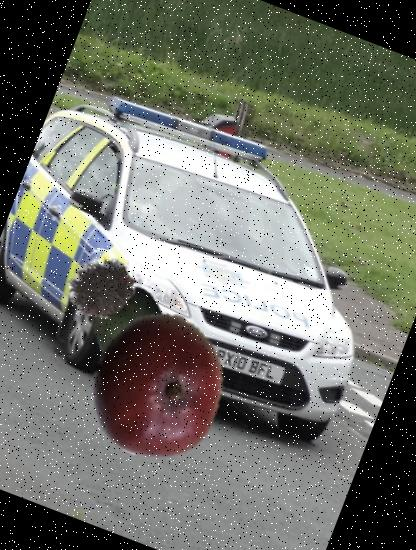Mango: (62, 290, 252, 480), (76, 273, 191, 388)
Rambutan: (58, 244, 146, 332)
